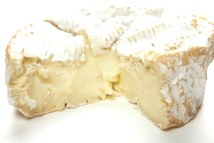camembert: (3, 4, 214, 133)
